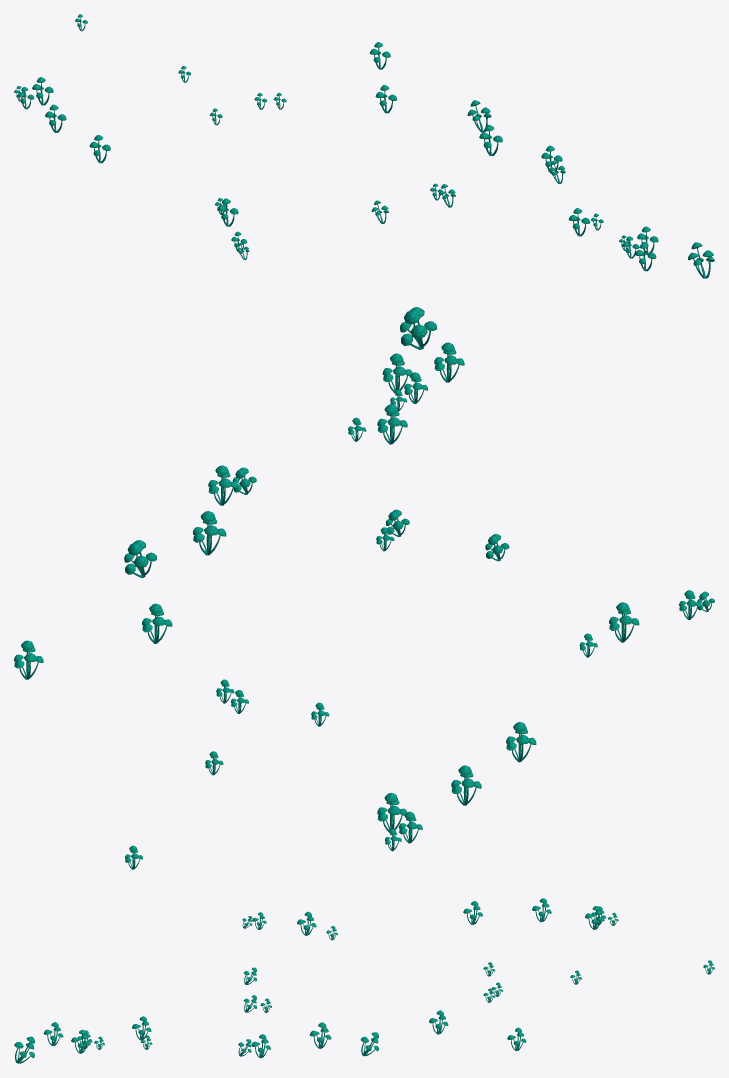
Rendered from mushroomA.fbx.
The picture shows the model from 3 angles, top to bottom: view 1: azimuth 30°, elevation 25°; view 2: azimuth 150°, elevation 25°; view 3: azimuth 270°, elevation 25°; orthographic projection. The views are drawn at different scales.
Parts seen in each view (by area): view 1: mushroomA; view 2: mushroomA; view 3: mushroomA.
Boxes of the visible parts, x1,y1,x2,y2 form: mushroomA: (14,14,714,278); mushroomA: (14,307,714,869); mushroomA: (14,898,714,1063).
Bounding box in the file's own units: 2045 × 170 × 4092.
